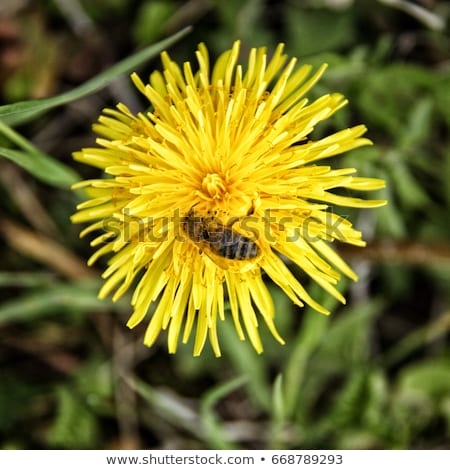dandelion: (79, 67, 354, 326)
